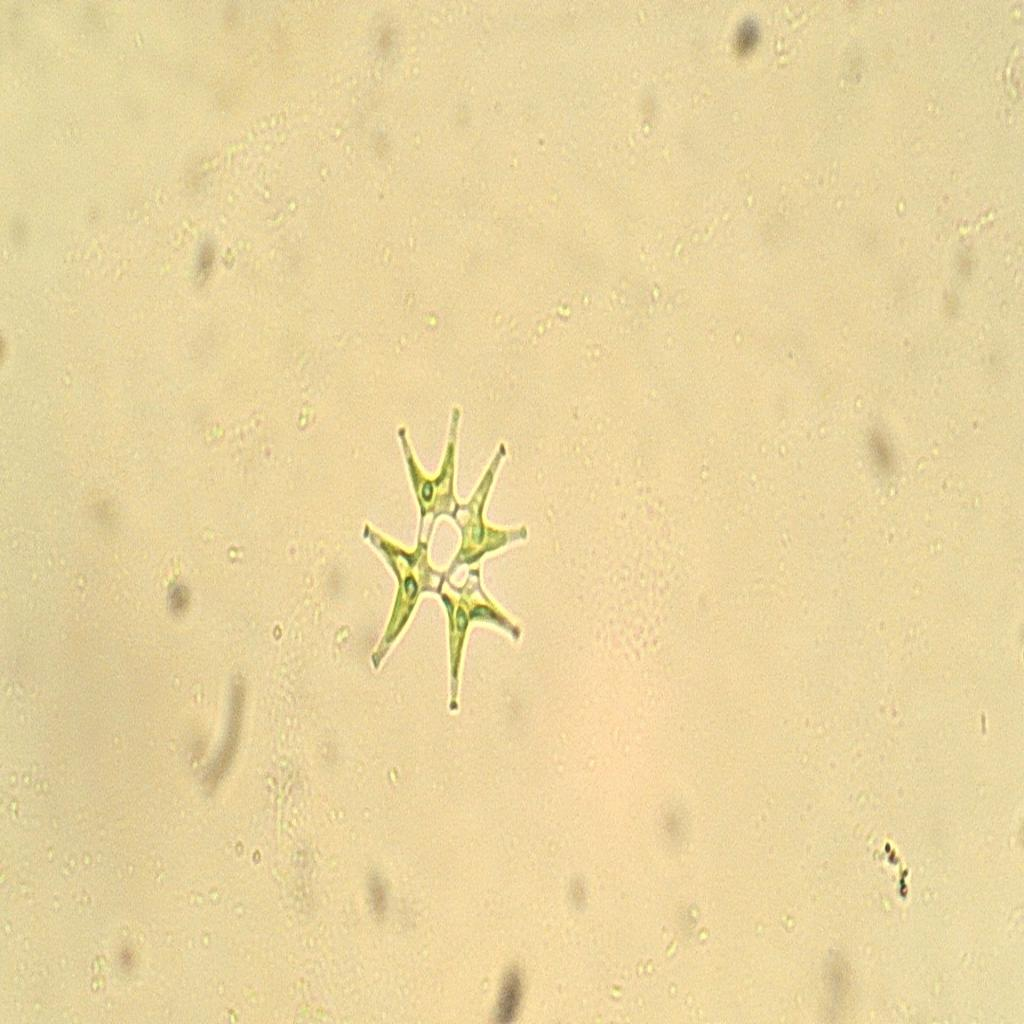Pediastrum_CF: (331, 397, 561, 729)
